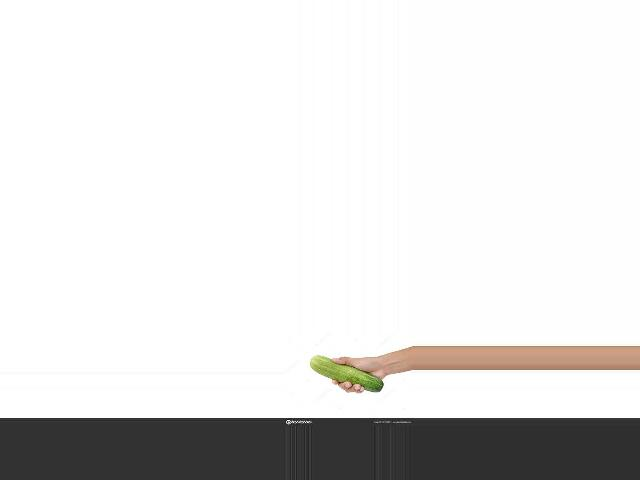cucumber: (310, 355, 384, 392)
